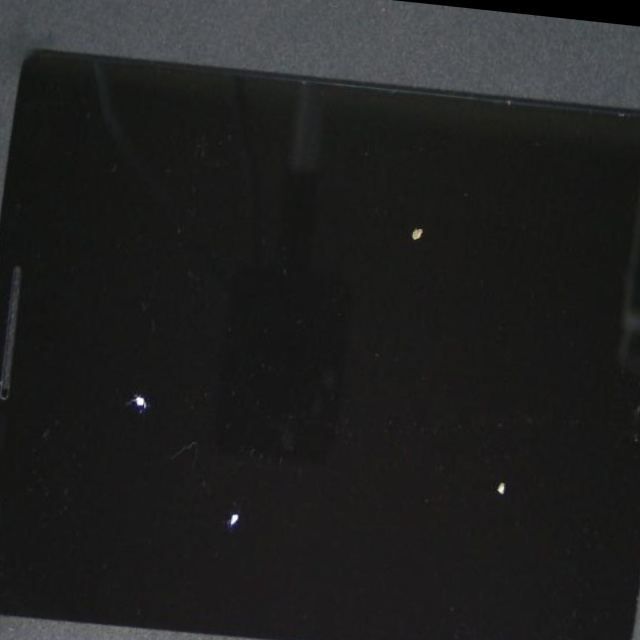stain: (195, 158, 640, 640), (0, 224, 412, 640), (118, 134, 634, 442), (23, 122, 249, 604)
